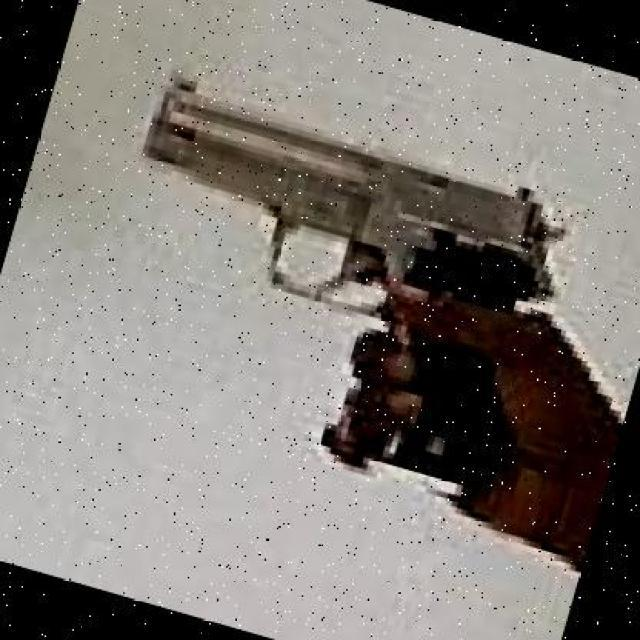rifle: (122, 36, 570, 296), (478, 340, 640, 592), (387, 268, 502, 498), (321, 284, 432, 464), (438, 299, 583, 366)
